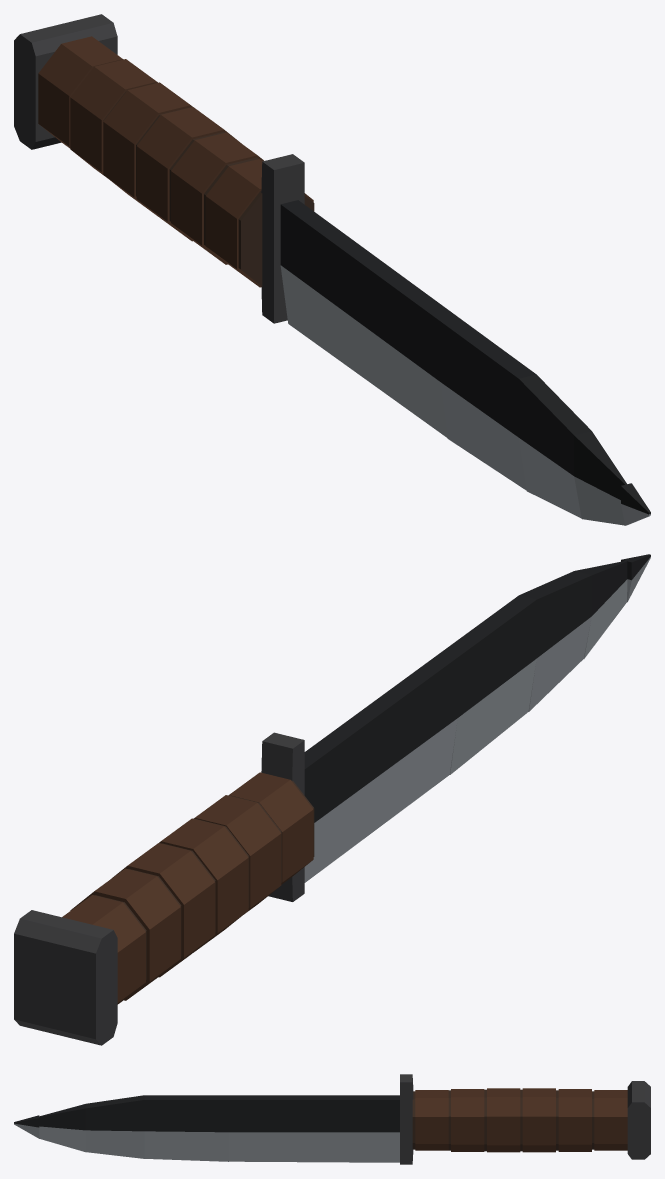
The model's file is knife.glb.
3 renders of one model, top to bottom at view 1: azimuth 30°, elevation 25°; view 2: azimuth 150°, elevation 25°; view 3: azimuth 270°, elevation 25°, orthographic. The views are drawn at different scales.
Parts seen in each view (by area): view 1: knife; view 2: knife; view 3: knife.
Part boxes in pixels (bbox=[...]): knife: bbox=[14, 14, 650, 525]; knife: bbox=[14, 554, 650, 1045]; knife: bbox=[14, 1074, 650, 1164].
Size of the model in its own units: 0.024 by 0.044 by 0.302.
1 material, 1 textured.
